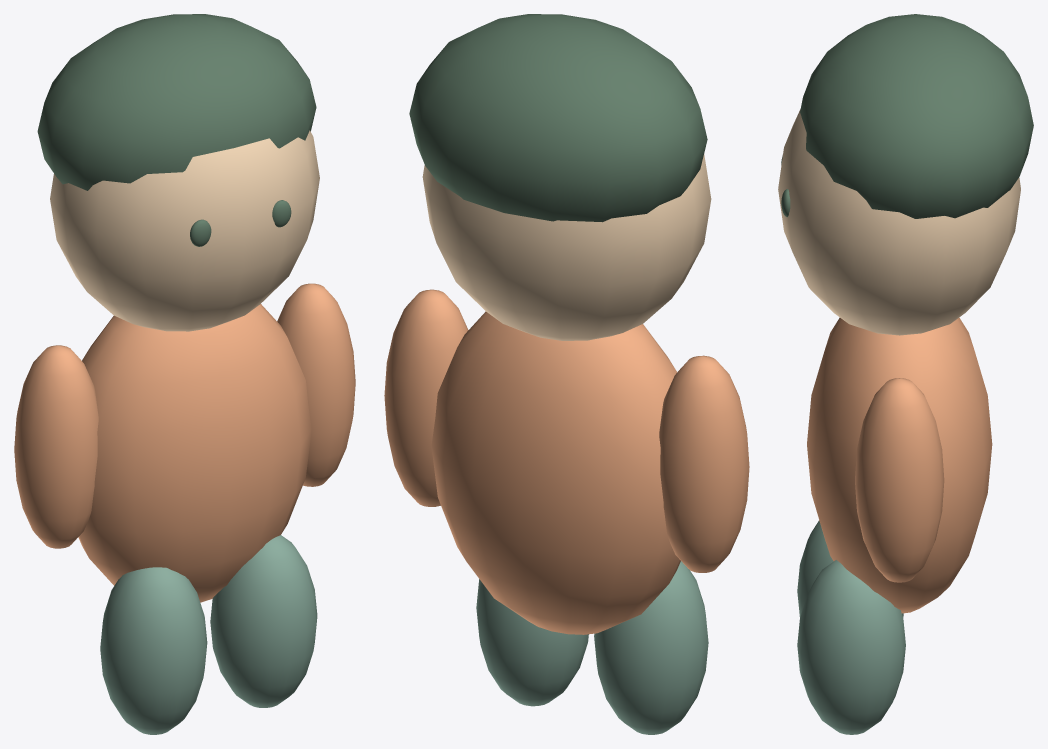
The model's file is desk-companion.glb.
3 views of the same model, side by side, from view 1: azimuth 30°, elevation 25°; view 2: azimuth 150°, elevation 25°; view 3: azimuth 270°, elevation 25° (orthographic). The views are drawn at different scales.
Parts seen in each view (by area): view 1: Sweater, Head, Hair, LeftLeg, LeftArm, RightLeg, RightArm; view 2: Sweater, Hair, Head, LeftArm, LeftLeg, RightArm, RightLeg; view 3: Hair, Sweater, Head, RightArm, RightLeg, LeftLeg.
Part boxes in pixels (left/top/right/bottom): Sweater: left=78, top=304, right=311, bottom=602; Head: left=50, top=130, right=319, bottom=331; Hair: left=37, top=14, right=316, bottom=190; LeftLeg: left=100, top=567, right=207, bottom=734; LeftArm: left=14, top=345, right=98, bottom=548; RightLeg: left=210, top=535, right=317, bottom=707; RightArm: left=277, top=283, right=355, bottom=486; Sweater: left=431, top=311, right=680, bottom=634; Hair: left=409, top=14, right=707, bottom=222; Head: left=422, top=154, right=711, bottom=340; LeftArm: left=659, top=355, right=749, bottom=572; LeftLeg: left=594, top=561, right=708, bottom=734; RightArm: left=384, top=289, right=468, bottom=506; RightLeg: left=476, top=579, right=588, bottom=706; Hair: left=800, top=14, right=1033, bottom=218; Sweater: left=807, top=317, right=992, bottom=613; Head: left=778, top=109, right=1020, bottom=335; RightArm: left=855, top=378, right=944, bottom=582; RightLeg: left=797, top=560, right=905, bottom=734; LeftLeg: left=797, top=520, right=903, bottom=617.
Size of the model in its own units: 1.2 by 2.32 by 0.8.
